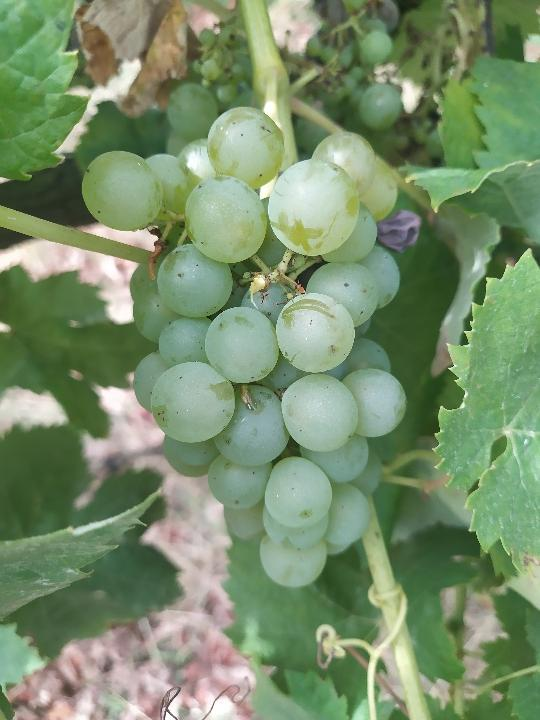grape: (78, 103, 411, 591)
